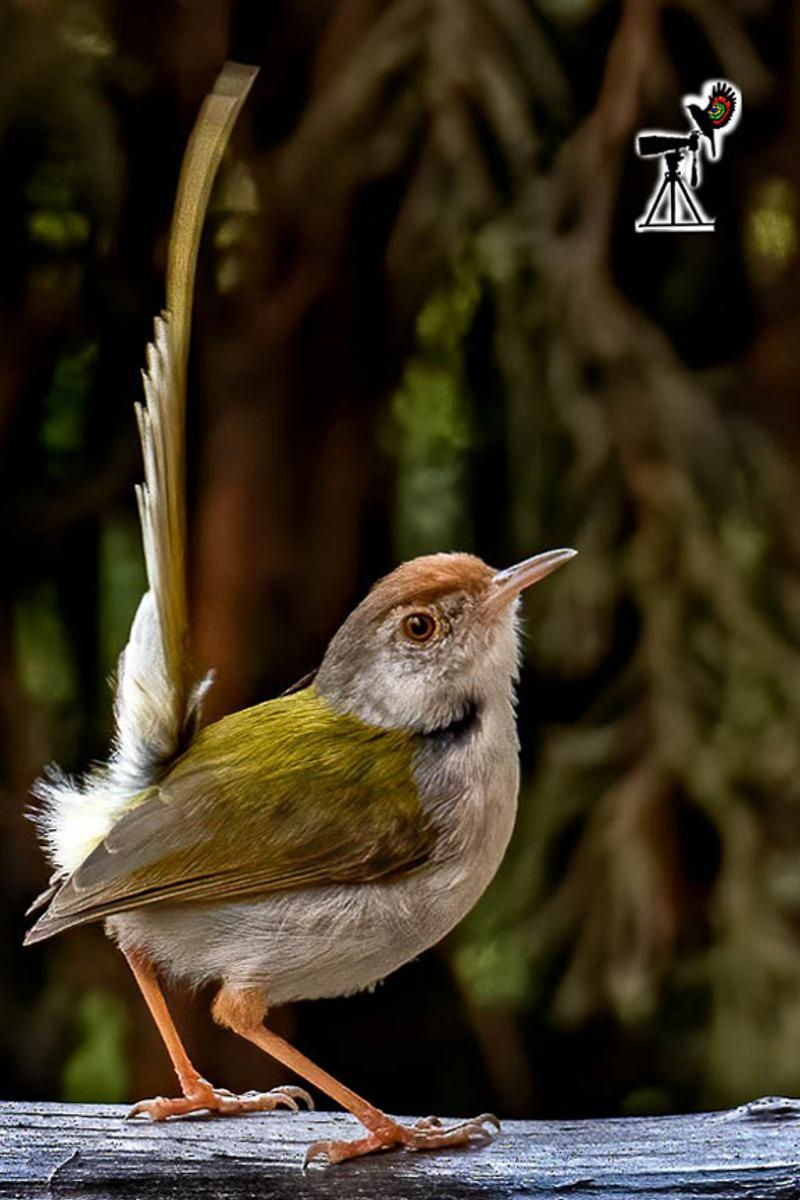tailorbird: (1, 189, 614, 1172)
